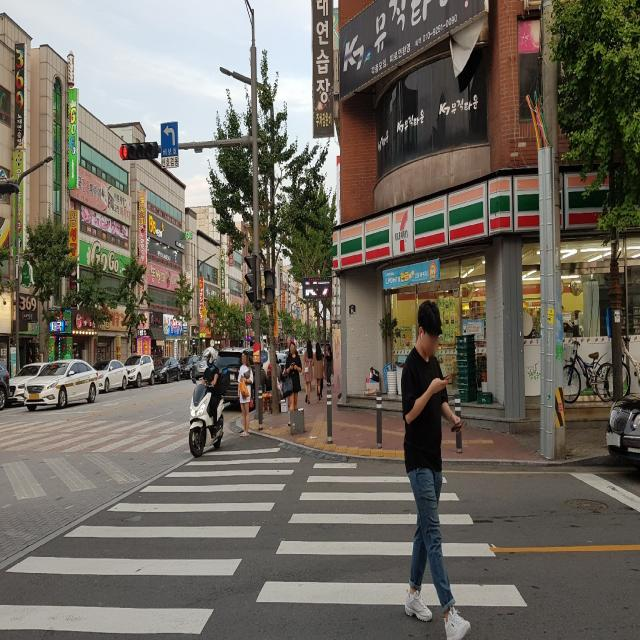횡단보도: (0, 446, 528, 640), (0, 423, 179, 446)
